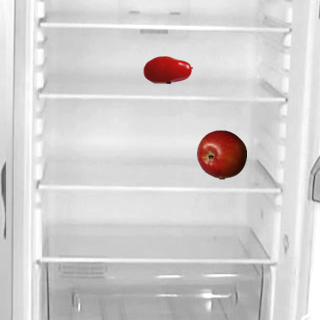Apple Braeburn: (196, 129, 246, 179)
Tomato 2: (142, 44, 192, 94)
